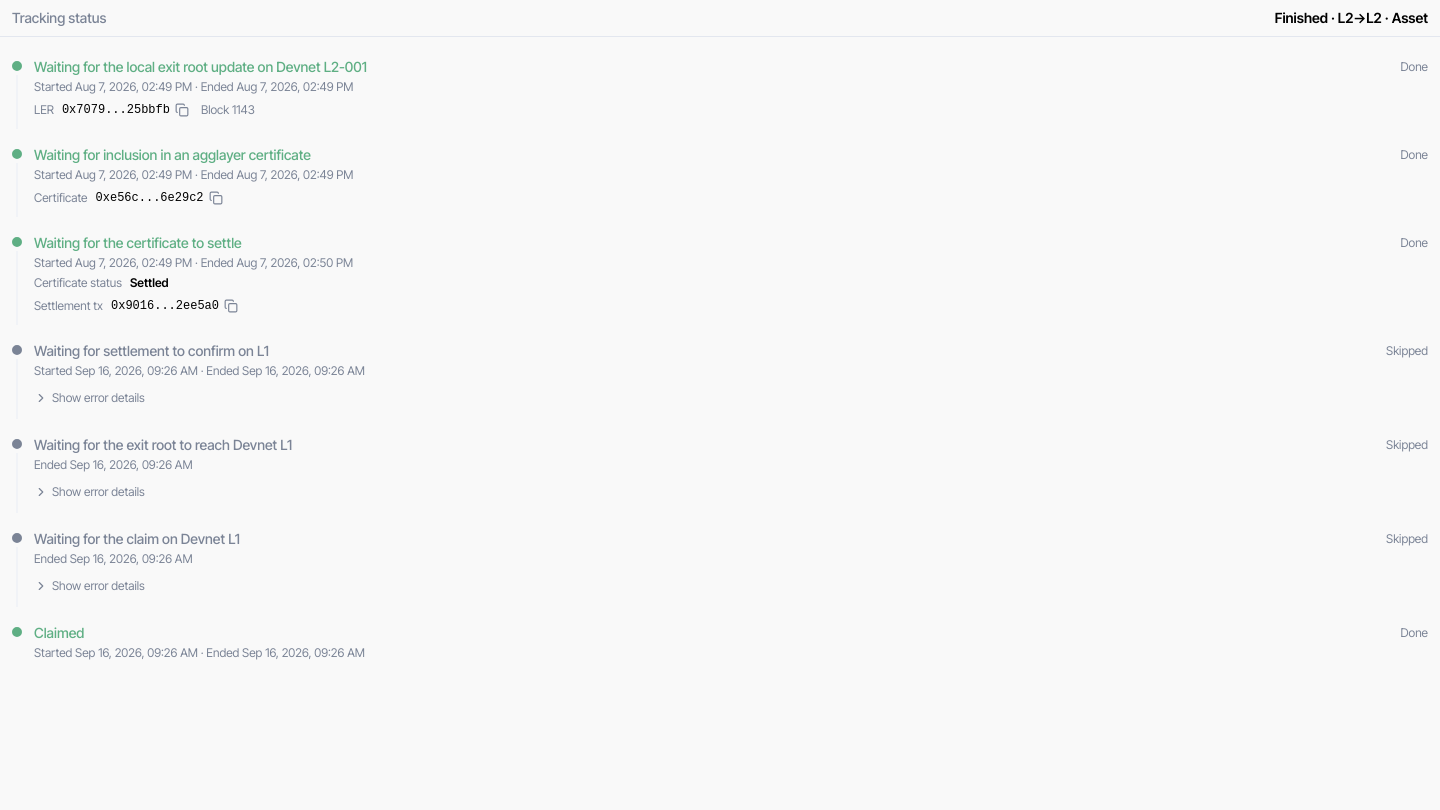
it: TrackerDetail › skipped step error disclosure (agglayer/sdk#38) › reveals a skipped step error on toggle, and hides it again on a second click
Click the button with test id "tracker-detail-skipped-error-toggle" below "Waiting for settlement to confirm on L1" at [89, 398], box [34,390,145,406]
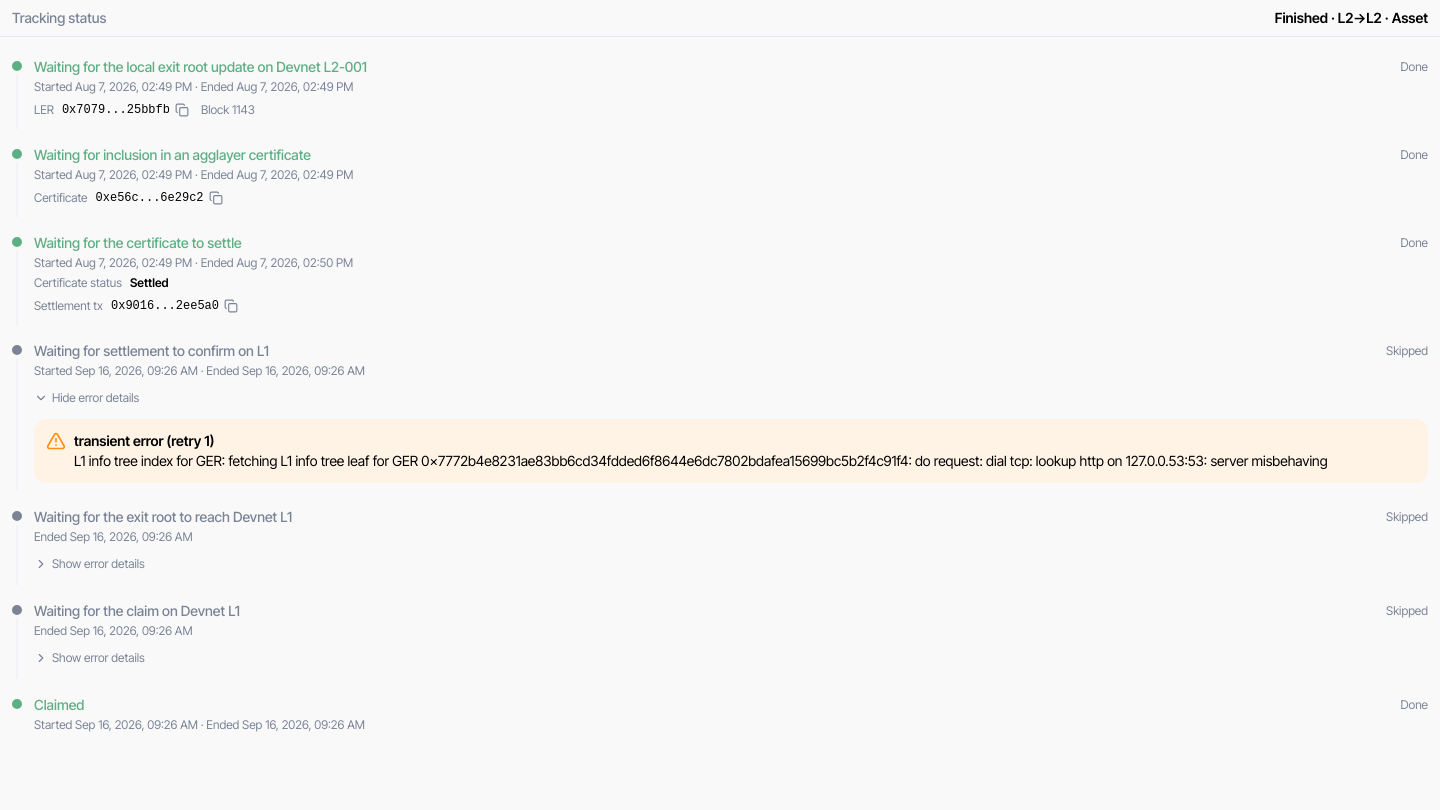
Result: the button with test id "tracker-detail-skipped-error-toggle" reads "Hide error details"
Result: the text "transient error (retry 1)" is shown at [74,432,214,449]
Click the button with test id "tracker-detail-skipped-error-toggle" showing "Hide error details" at [87, 398], box [34,390,139,406]
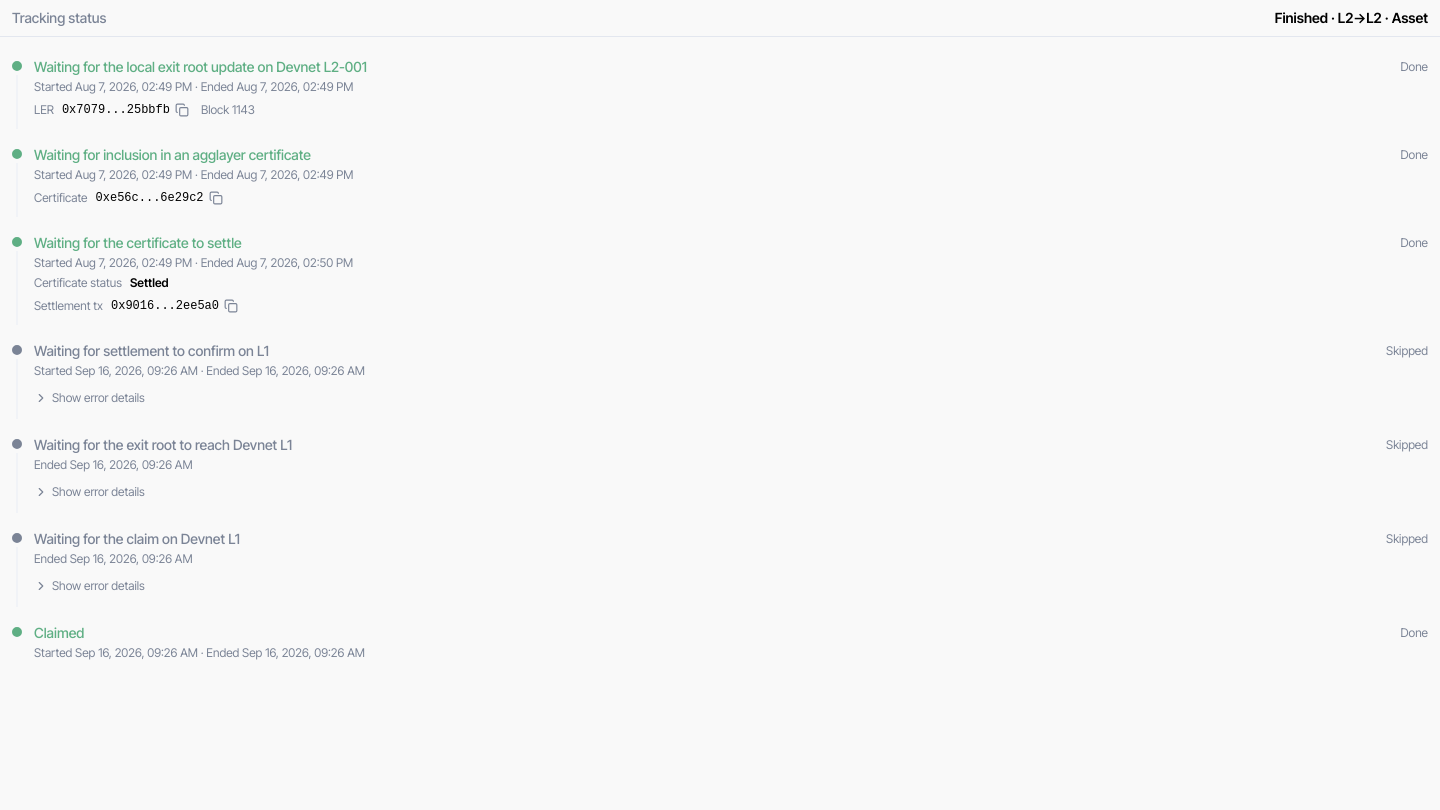
Result: the button with test id "tracker-detail-skipped-error-toggle" below "Waiting for settlement to confirm on L1" reads "Show error details" at [34,390,145,406]
Result: the text "transient error (retry 1)" is gone
